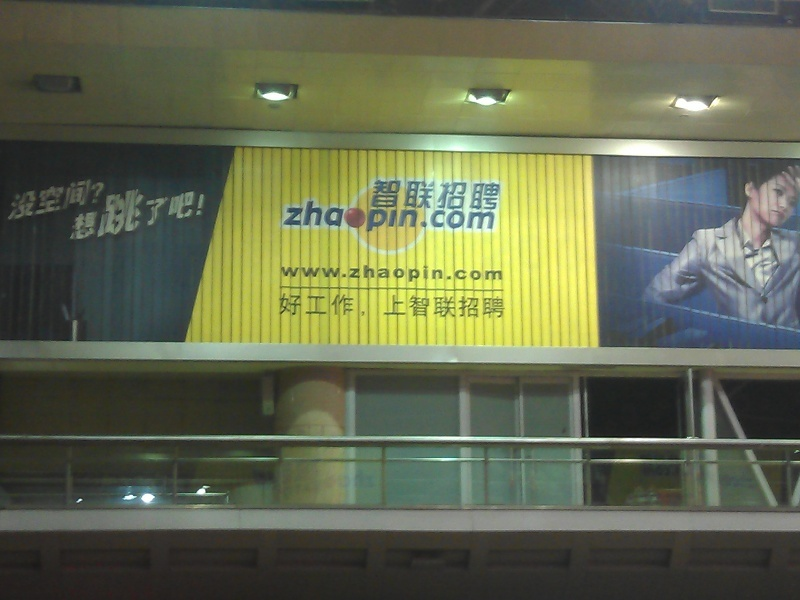text: (65, 175, 80, 245), (81, 175, 96, 245), (97, 175, 112, 245), (113, 175, 128, 245), (129, 175, 144, 245), (145, 175, 160, 245), (161, 175, 176, 245), (177, 175, 192, 245), (193, 175, 208, 245), (17, 172, 32, 225), (33, 172, 48, 225), (49, 172, 64, 225), (65, 172, 80, 225), (81, 172, 96, 225), (2, 172, 16, 225), (97, 172, 109, 225), (289, 200, 304, 238), (305, 200, 320, 238), (321, 200, 336, 238), (337, 200, 352, 238), (353, 200, 368, 238), (369, 200, 384, 238), (385, 200, 400, 238), (401, 200, 416, 238), (417, 200, 432, 238), (433, 200, 448, 238), (449, 200, 464, 238), (465, 200, 480, 238), (369, 175, 384, 212), (385, 175, 400, 212), (401, 175, 416, 212), (417, 175, 432, 212), (433, 175, 448, 212), (449, 175, 464, 212), (465, 175, 480, 212), (481, 175, 496, 212), (481, 200, 494, 238), (289, 292, 304, 321), (305, 292, 320, 321), (321, 292, 336, 321), (337, 292, 352, 321), (353, 292, 368, 321), (369, 292, 384, 321), (385, 292, 400, 321), (401, 292, 416, 321), (417, 292, 432, 321), (433, 292, 448, 321), (449, 292, 464, 321), (465, 292, 480, 321), (481, 292, 496, 321), (289, 261, 304, 284), (305, 261, 320, 284), (321, 261, 336, 284), (337, 261, 352, 284), (353, 261, 368, 284), (369, 261, 384, 284), (385, 261, 400, 284), (401, 261, 416, 284), (417, 261, 432, 284), (433, 261, 448, 284), (449, 261, 464, 284), (465, 261, 480, 284), (481, 261, 496, 284), (278, 292, 288, 321), (497, 292, 506, 321), (278, 261, 288, 284), (61, 175, 64, 245), (497, 261, 506, 284), (497, 175, 502, 212), (286, 200, 288, 238), (209, 175, 210, 245)
